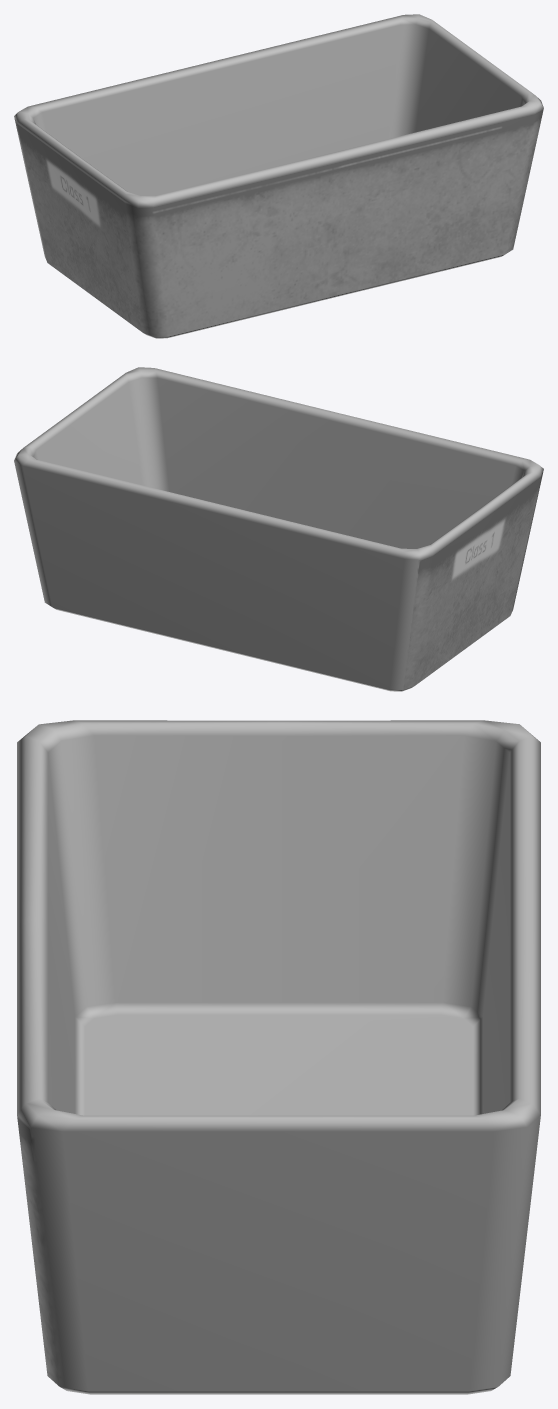
Rendered from SM_Tupper_3.fbx.
3 views of the same model, one above another, from view 1: azimuth 30°, elevation 25°; view 2: azimuth 150°, elevation 25°; view 3: azimuth 270°, elevation 25° (orthographic). The views are drawn at different scales.
Parts seen in each view (by area): view 1: SM_Tupper_3_LOD0; view 2: SM_Tupper_3_LOD0; view 3: SM_Tupper_3_LOD0.
Boxes of the visible parts, box(x1,y1,x2,y2) form: SM_Tupper_3_LOD0: box(14, 14, 543, 338); SM_Tupper_3_LOD0: box(14, 367, 543, 691); SM_Tupper_3_LOD0: box(17, 720, 540, 1394).
Bounding box in the file's own units: 26.87 × 14.66 × 9.26.
Materials: 1 (1 with a texture image).
